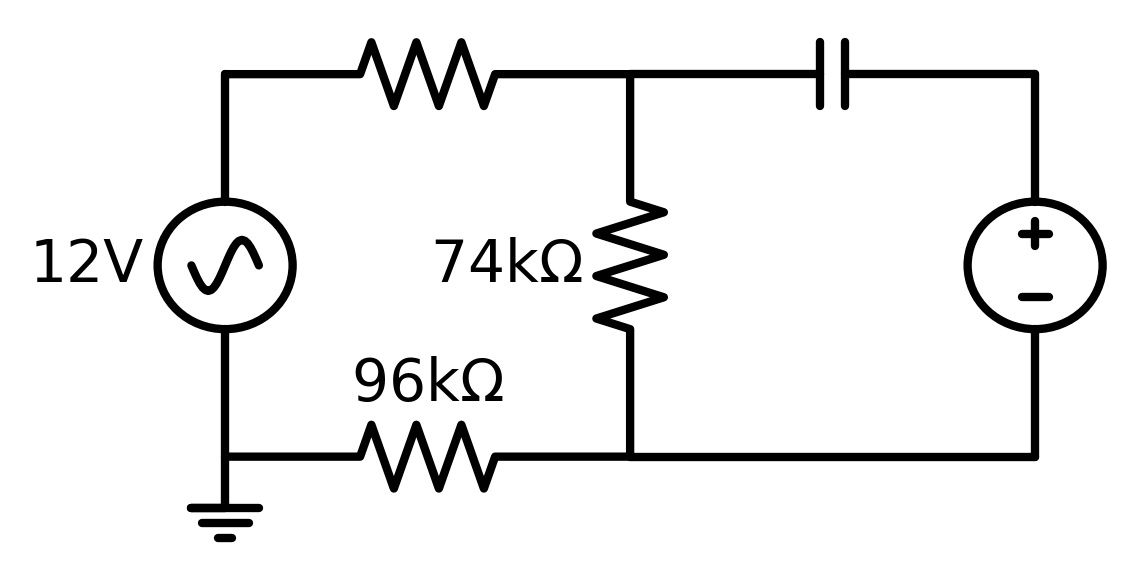capacitor: (800, 20, 864, 124)
ground: (180, 493, 270, 553)
resistor: (343, 21, 523, 130), (353, 415, 516, 507), (588, 183, 670, 348)
sourceac: (147, 196, 301, 335)
sourcedc: (960, 188, 1117, 350)
